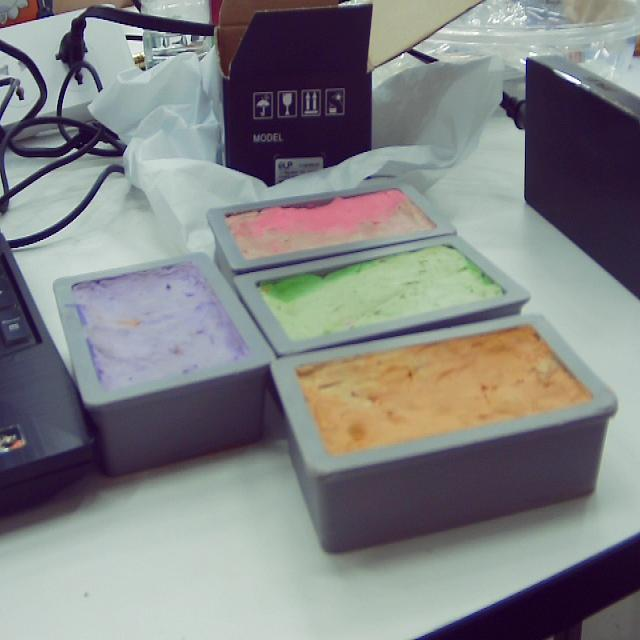block: (272, 311, 620, 552), (50, 252, 277, 476), (230, 230, 531, 358), (207, 182, 456, 276)
